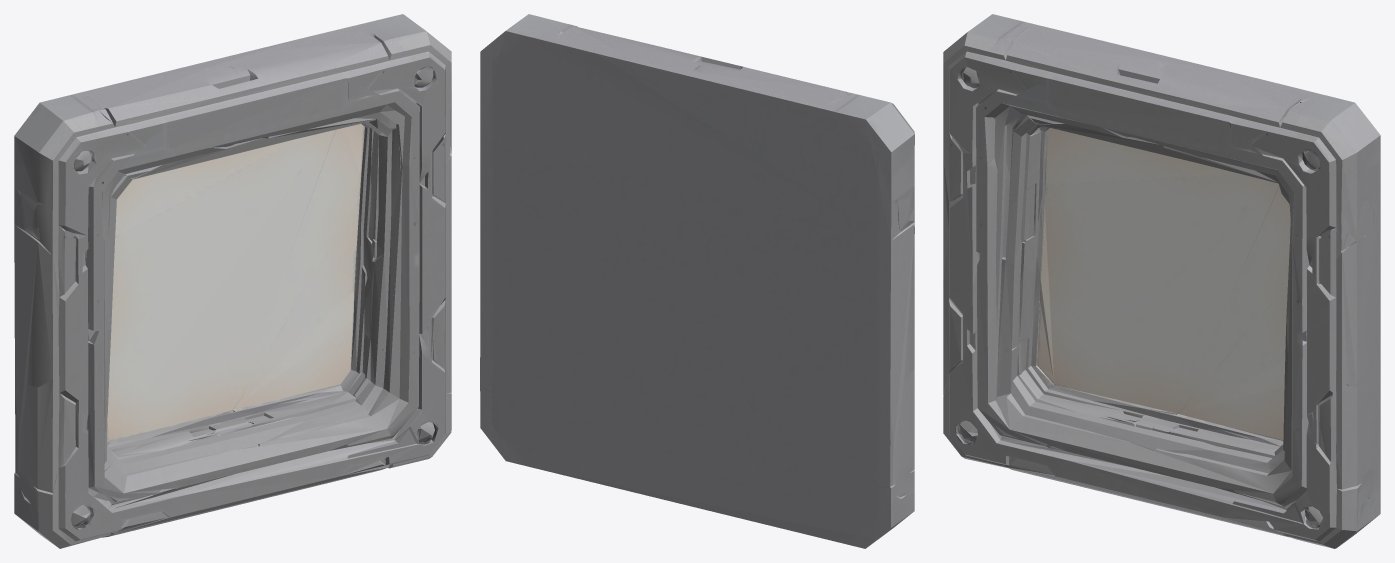
The model's file is bulkhead_door.glb.
The picture shows the model from 3 angles, left to right: view 1: azimuth 30°, elevation 25°; view 2: azimuth 150°, elevation 25°; view 3: azimuth 330°, elevation 25°; orthographic projection.
Parts seen in each view (by area): view 1: output_unwrapped; view 2: output_unwrapped; view 3: output_unwrapped.
Boxes of the visible parts, <box> form: output_unwrapped: <box>14,14,451,548</box>; output_unwrapped: <box>480,14,914,548</box>; output_unwrapped: <box>943,14,1380,548</box>.
Bounding box in the file's own units: 1.9 × 1.9 × 0.2805.
Materials: 1 (1 with a texture image).
